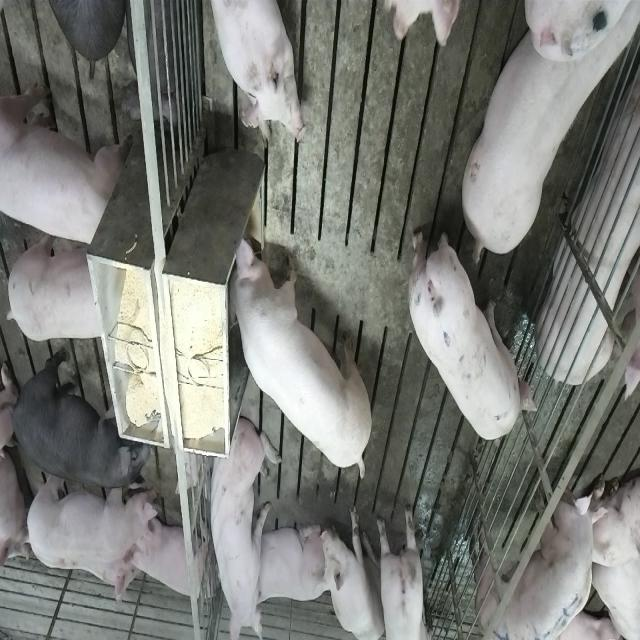Feeding: (218, 230, 368, 478)
Sitting: (204, 411, 275, 636), (320, 502, 385, 640)
Standing: (456, 8, 634, 268), (406, 219, 538, 442), (1, 76, 124, 252), (468, 491, 606, 640), (10, 351, 140, 497), (23, 473, 161, 567), (5, 226, 111, 344), (376, 505, 438, 640)
Sternal_lying: (539, 60, 640, 394), (205, 0, 304, 143), (131, 508, 213, 608), (250, 519, 328, 605)
